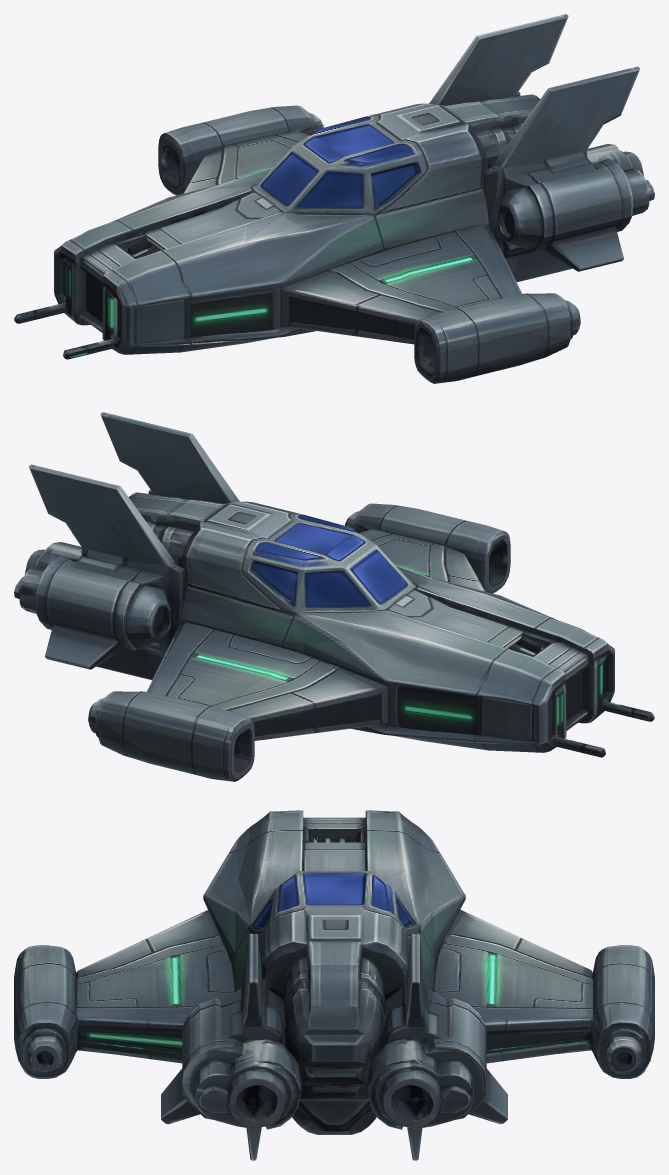
File: Meshy_AI_Emerald_Void_Intercep_0714134231_texture.glb
3 renders of one model, top to bottom at view 1: azimuth 30°, elevation 25°; view 2: azimuth 150°, elevation 25°; view 3: azimuth 270°, elevation 25°, orthographic. The views are drawn at different scales.
Bounding box in the file's own units: 1.91 × 0.6106 × 1.66.
Materials: 1 (1 with a texture image).
